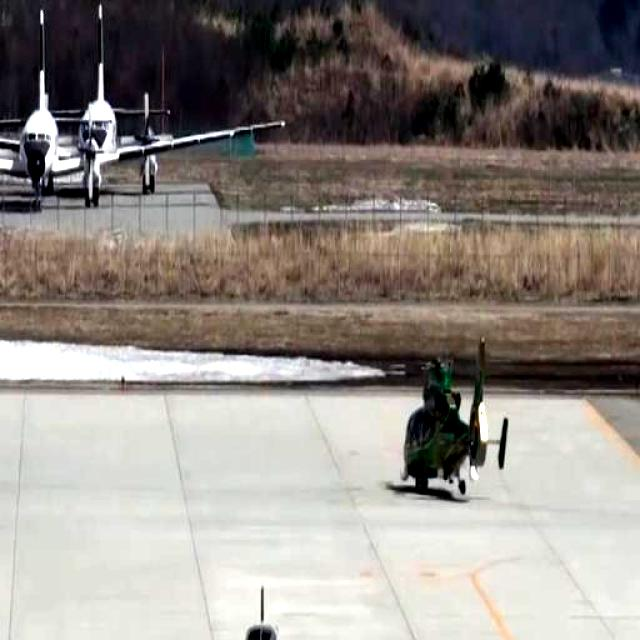drone: (395, 359, 511, 512)
